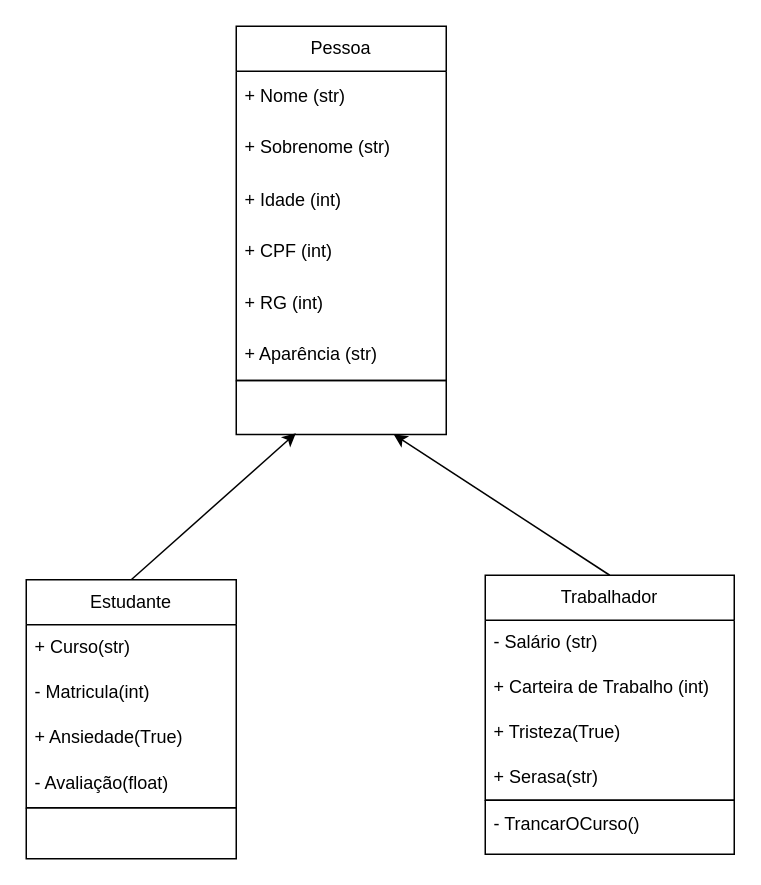
Some shapes in this 761 by 885 pixel diagram are drawn without their labels. Here are the shapes that lost their labels. From the top down, the centre of each, then its label:
At (x=340, y=406): "+ Saúdavel()".
At (x=130, y=832): "+ Estudar()".
